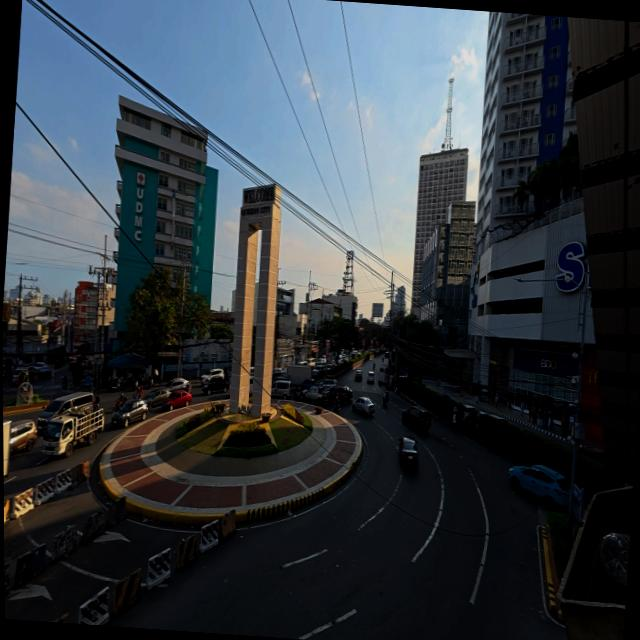car: (148, 382, 195, 416), (111, 398, 151, 431), (7, 420, 38, 456), (401, 406, 433, 436), (399, 436, 422, 468), (351, 394, 376, 416)
trucks: (36, 387, 106, 460)
